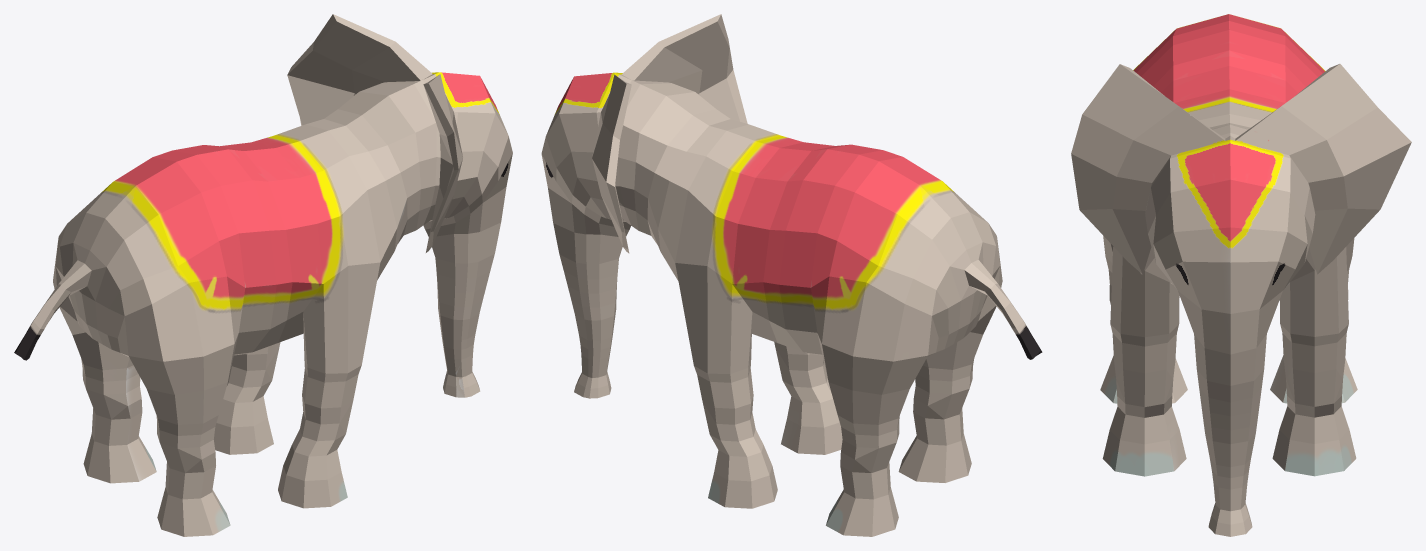
File: Elefante.fbx
The picture shows the model from 3 angles, left to right: view 1: azimuth 30°, elevation 25°; view 2: azimuth 150°, elevation 25°; view 3: azimuth 270°, elevation 25°; orthographic projection. The views are drawn at different scales.
Visible parts, largest first — view 1: elefante; view 2: elefante; view 3: elefante.
Part boxes in pixels (box(x1,y1,x2,y2)): elefante: box(14, 14, 512, 536); elefante: box(541, 14, 1042, 536); elefante: box(1071, 14, 1411, 536).
Size of the model in its own units: 776 by 592 by 403.
Materials: 1 (1 with a texture image).
